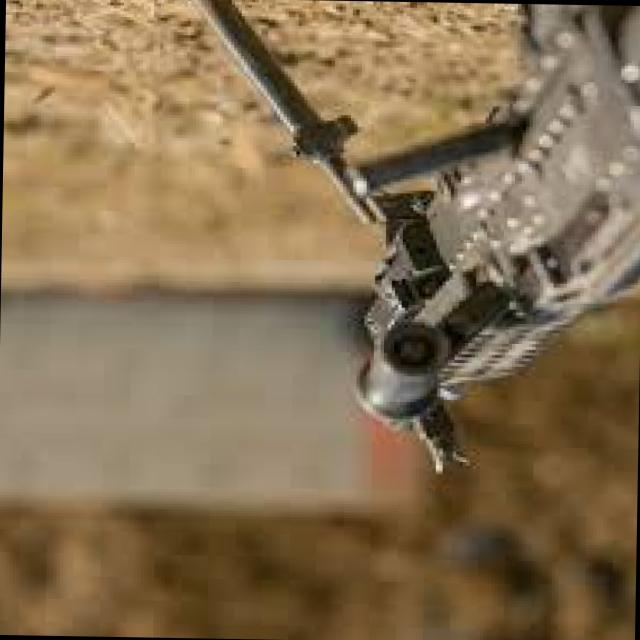Gun: (144, 0, 640, 511)
